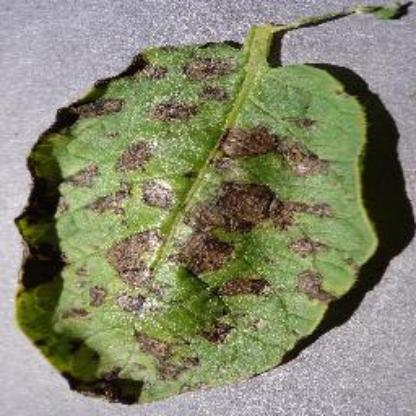Early-Blight: (13, 18, 386, 406)
